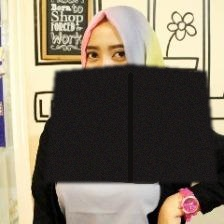Cadar_Niqab: (44, 6, 217, 182)
